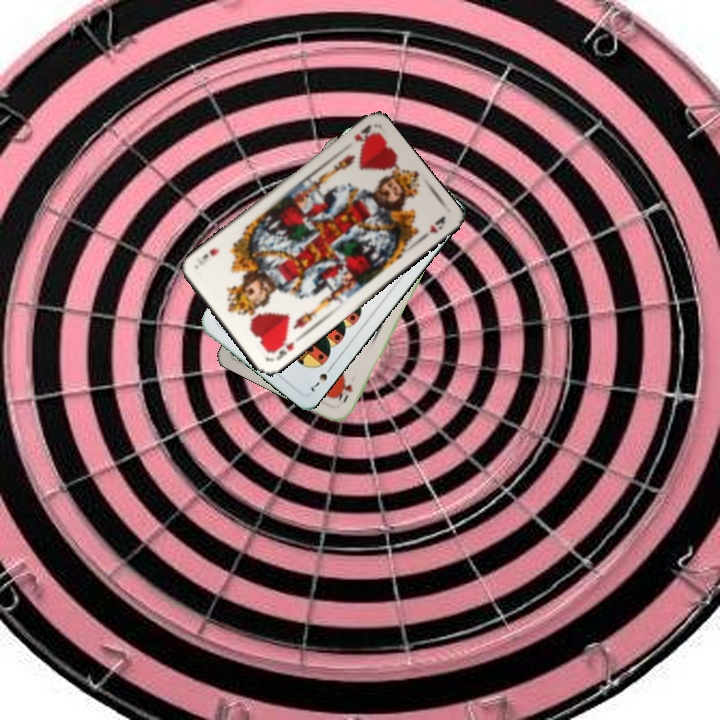HK: (264, 334, 302, 363), (350, 121, 377, 144)
HO: (334, 380, 355, 405)
S7: (306, 361, 336, 395)
